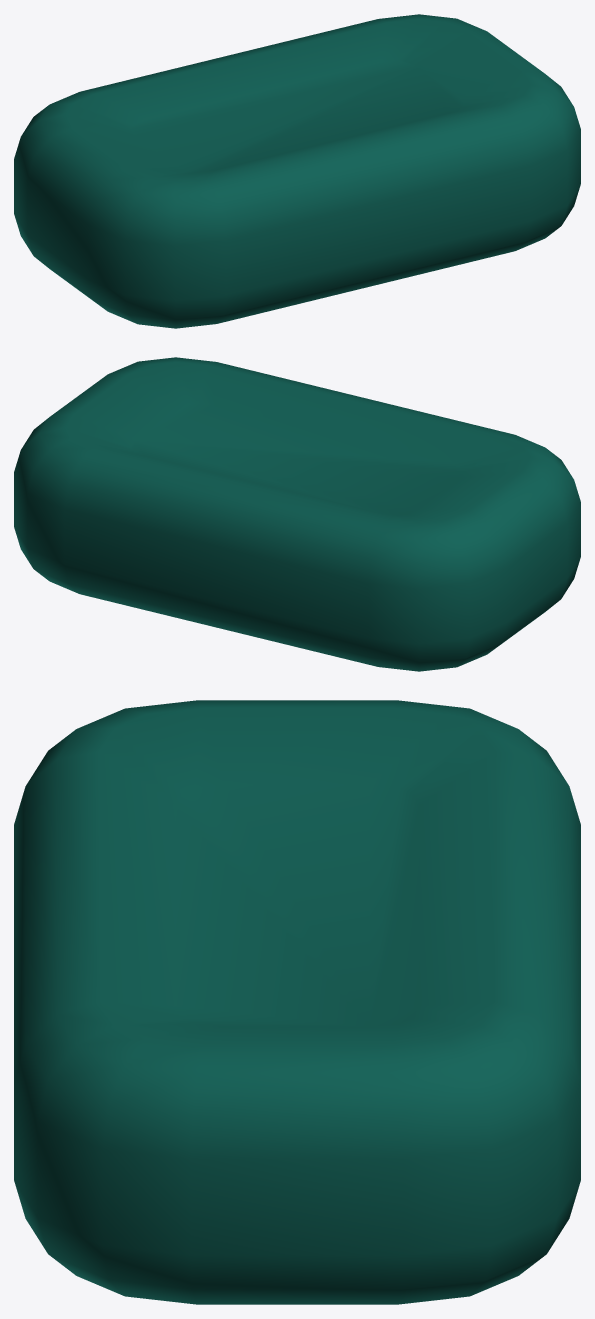
Rendered from SoapBar.fbx.
3 views of the same model, one above another, from view 1: azimuth 30°, elevation 25°; view 2: azimuth 150°, elevation 25°; view 3: azimuth 270°, elevation 25° (orthographic). The views are drawn at different scales.
Visible parts, largest first — view 1: Prop_Soup; view 2: Prop_Soup; view 3: Prop_Soup.
Part boxes in pixels (x1,y1,x2,y2): Prop_Soup: [14, 14, 580, 328]; Prop_Soup: [14, 357, 580, 671]; Prop_Soup: [14, 700, 580, 1304].
Bounding box in the file's own units: 16.09 × 4.61 × 9.41.
Materials: 1 (1 with a texture image).
